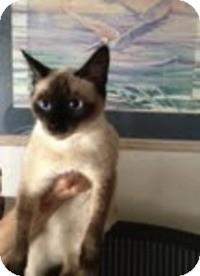siamese: (15, 40, 116, 151)
